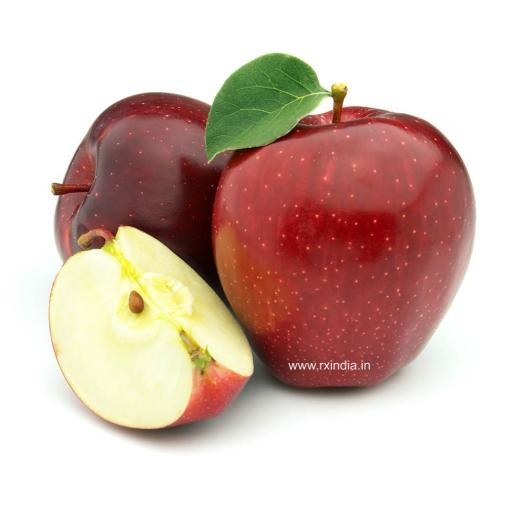apple: (56, 93, 476, 387), (50, 249, 252, 428)
